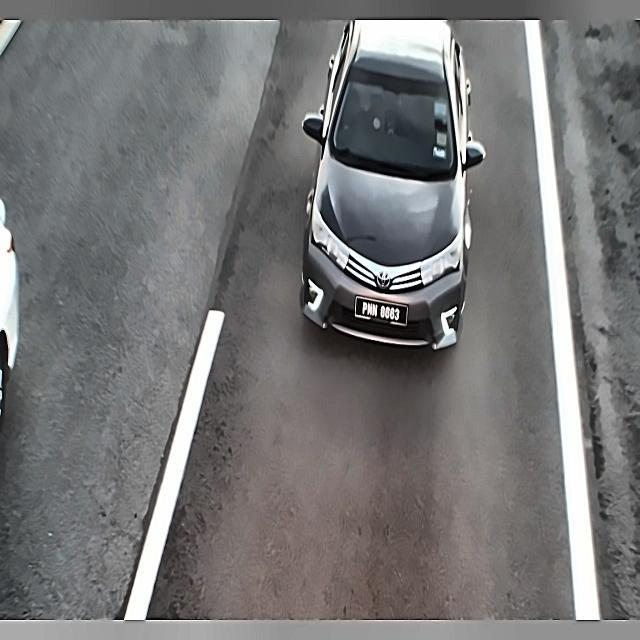car: (352, 291, 412, 333)
